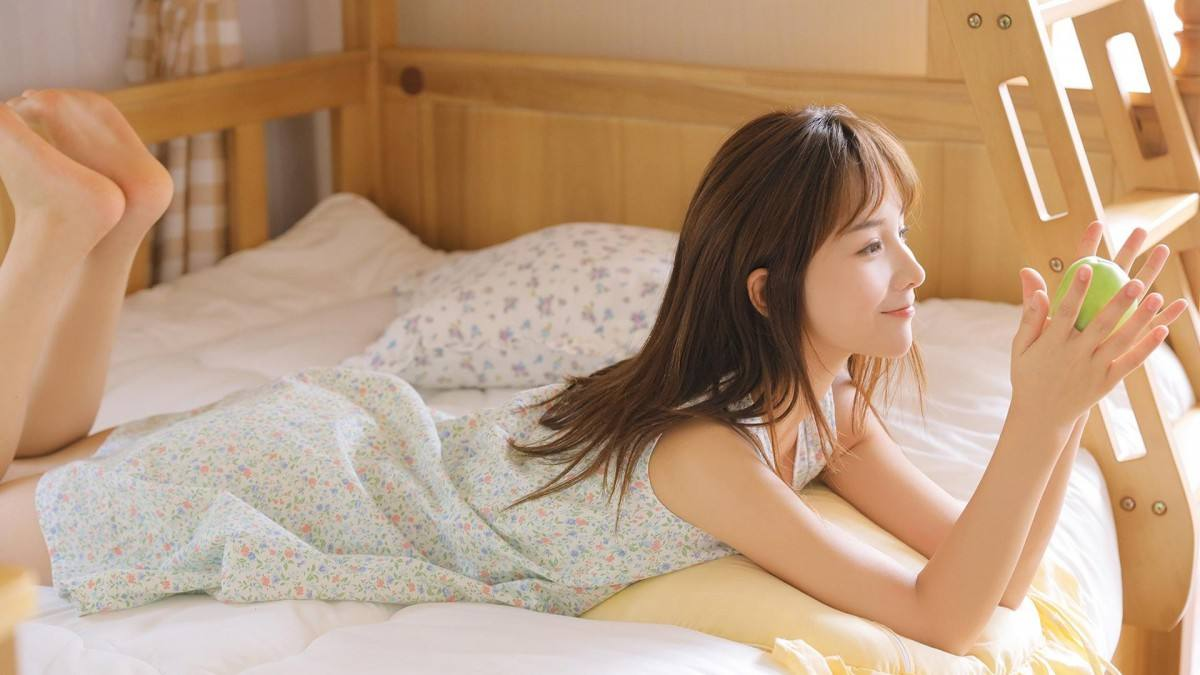person: (445, 5, 1061, 615)
